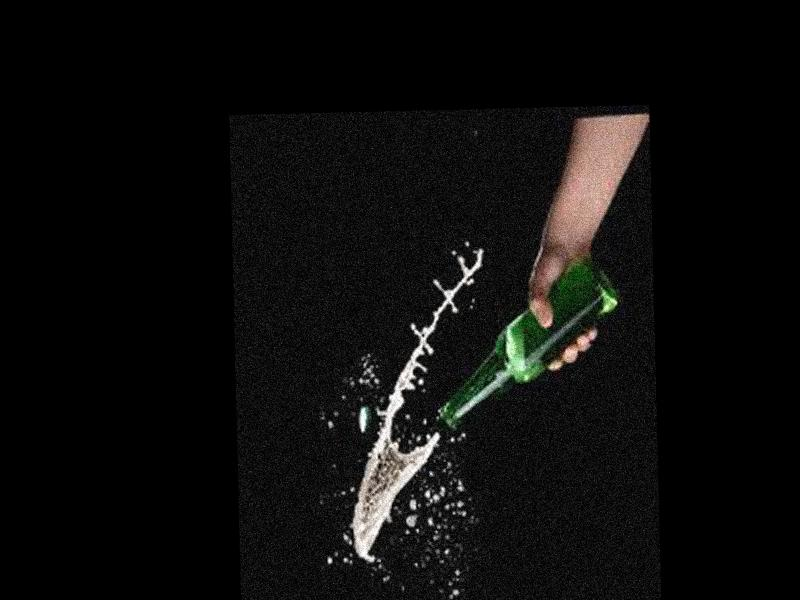Beer: (437, 256, 624, 428)
